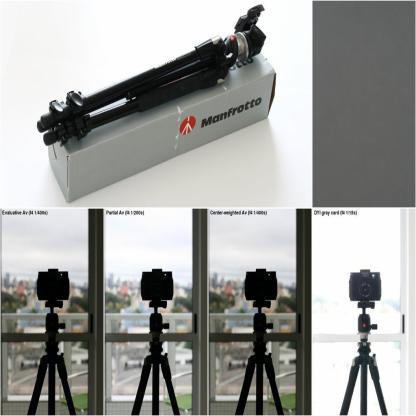Camera: (235, 6, 266, 59), (38, 269, 71, 304), (141, 269, 174, 304), (348, 270, 383, 303), (246, 268, 278, 300)
